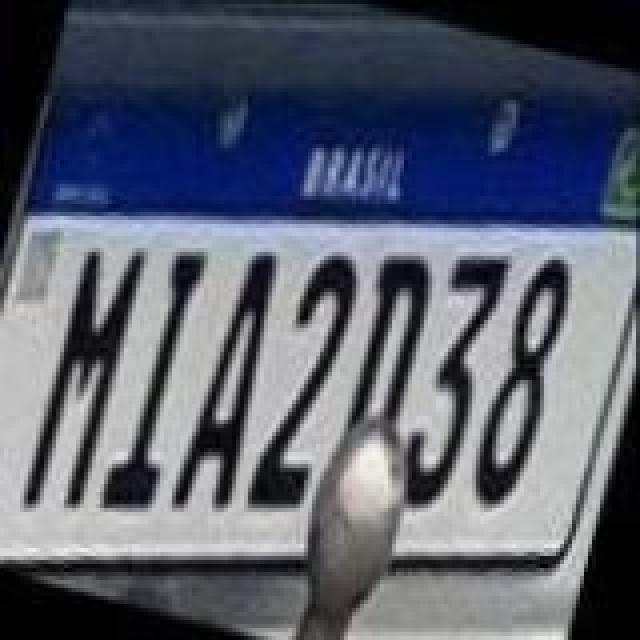2: (248, 248, 368, 524)
3: (394, 242, 514, 518)
8: (464, 248, 584, 520)
A: (172, 244, 292, 524)
D: (336, 248, 444, 456)
I: (96, 240, 216, 524)
M: (20, 234, 148, 526)
